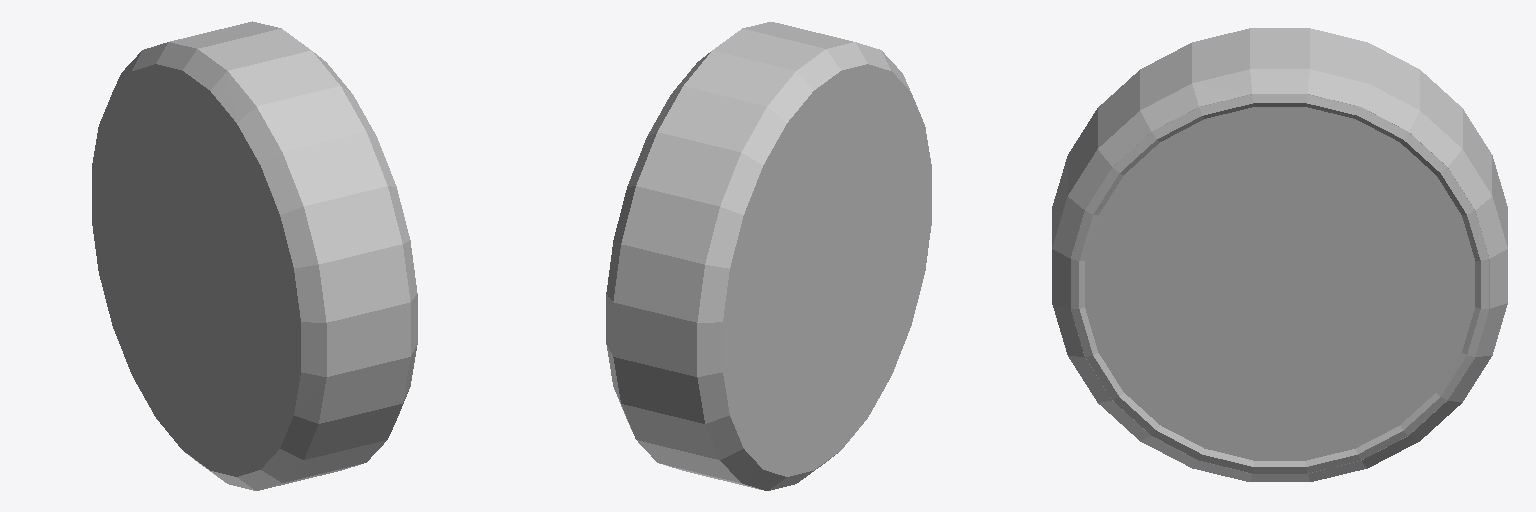
Rendered from llantas.obj.
3 views of the same model, side by side, from view 1: azimuth 30°, elevation 25°; view 2: azimuth 150°, elevation 25°; view 3: azimuth 270°, elevation 25° (orthographic).
Visible parts, largest first — view 1: Object.9, Object.8; view 2: Object.9, Object.8; view 3: Object.9, Object.7.
Boxes of the visible parts, box(x1,y1,x2,y2) form: Object.9: box(92, 21, 417, 490); Object.8: box(92, 64, 300, 476); Object.9: box(606, 22, 931, 490); Object.8: box(723, 74, 931, 476); Object.9: box(1052, 28, 1507, 481); Object.7: box(1071, 94, 1488, 473).
Bounding box in the file's own units: 1.75 × 5.8 × 5.8.